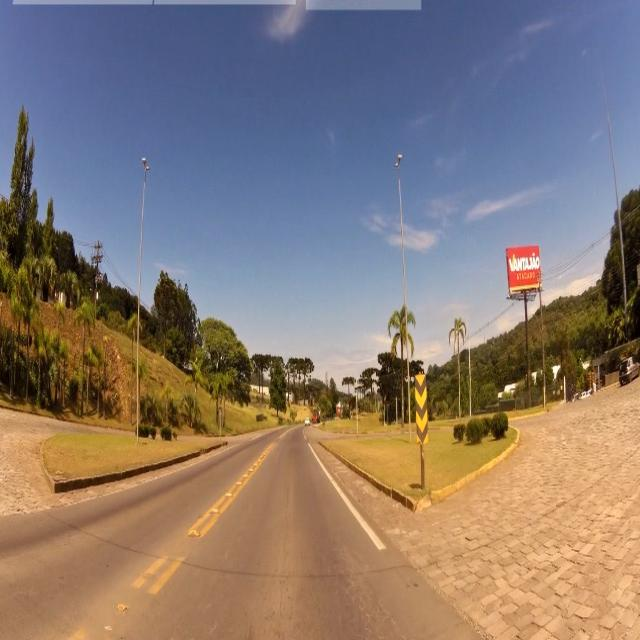MP: (414, 373, 430, 447)
